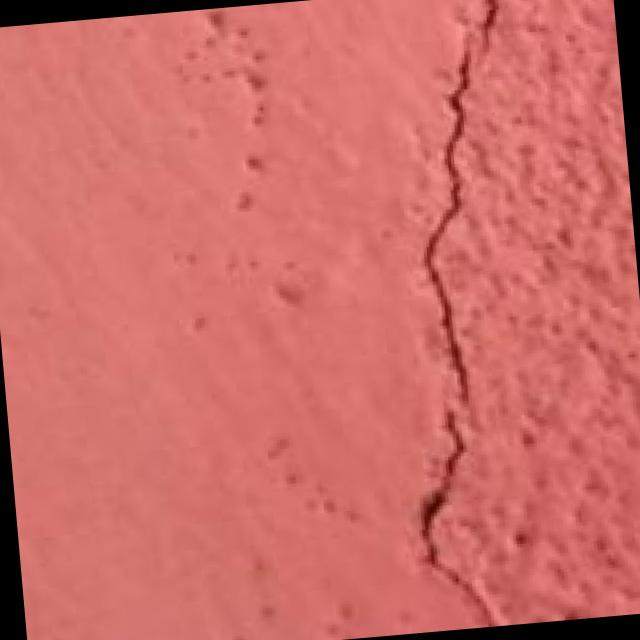crack: (321, 0, 602, 633)
